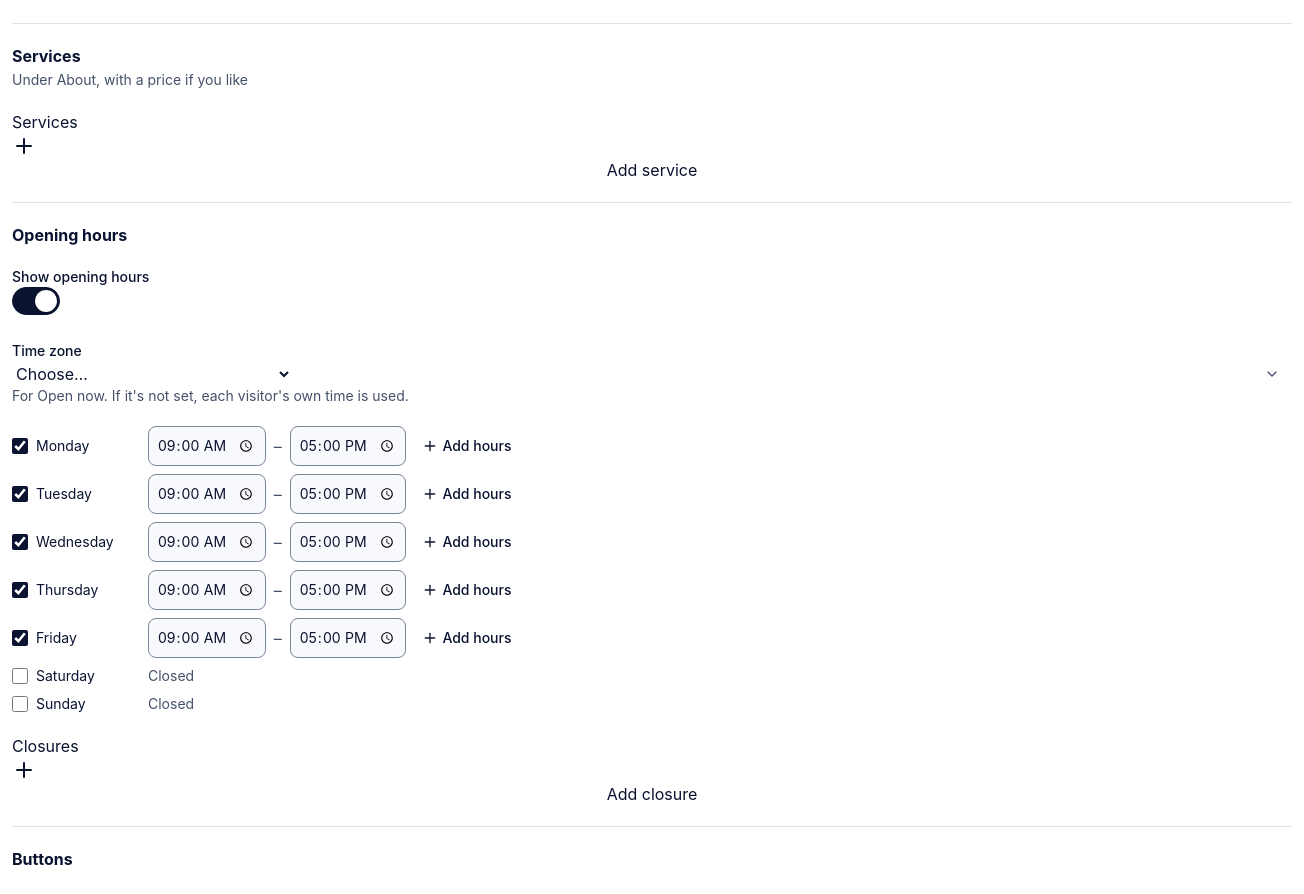
Scenario: Business opening hours › marks a day's first box for Show me, and shows its error once you leave it
The width and height of the screenshot is (1304, 894).
(page scrolled)
Replace the text in the time field named "Monday opens" with "18:00": (207, 446) [148,426,266,466]
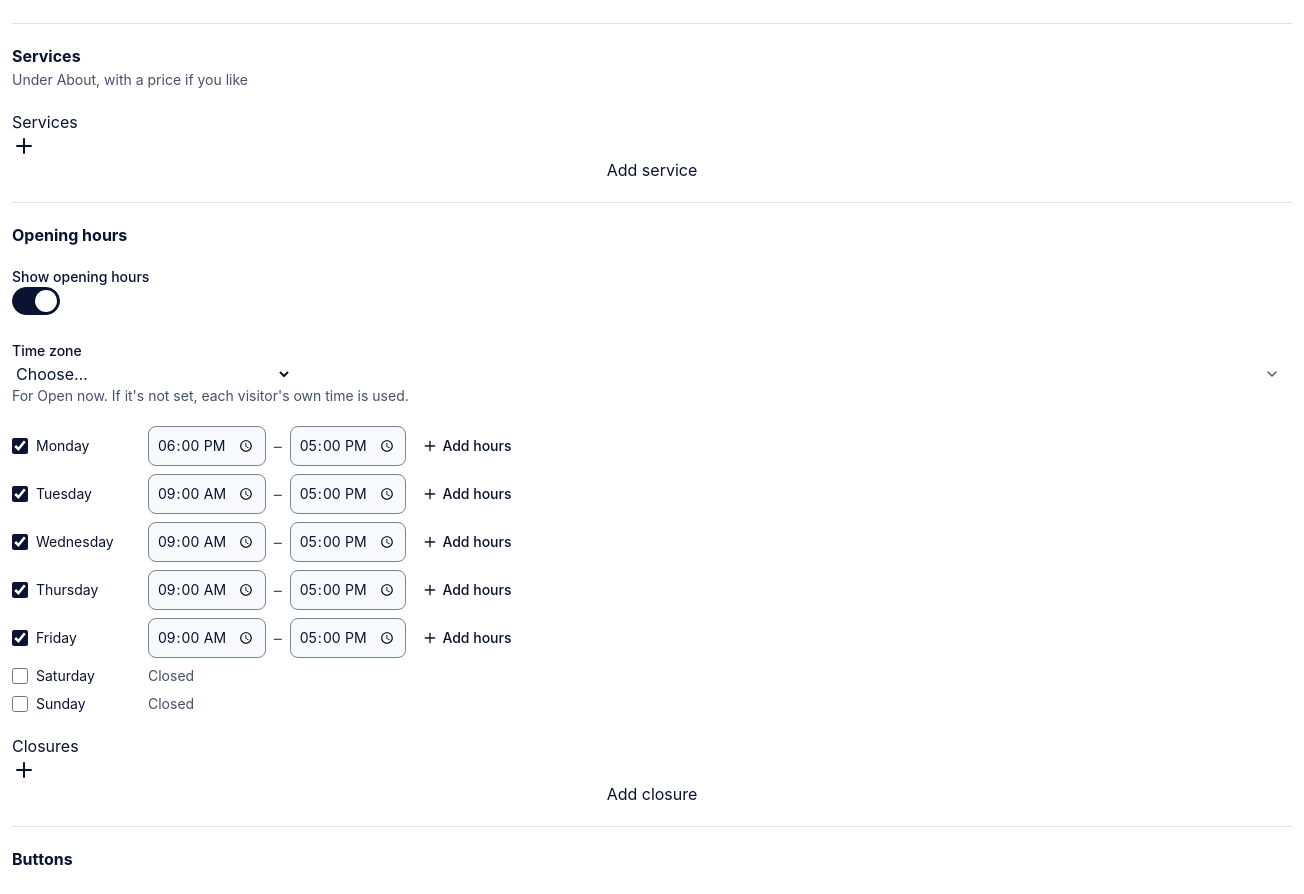
Expected: the text "Closing time must be after opening" is not shown
Leave the time field named "Monday opens", box [148,426,266,466]
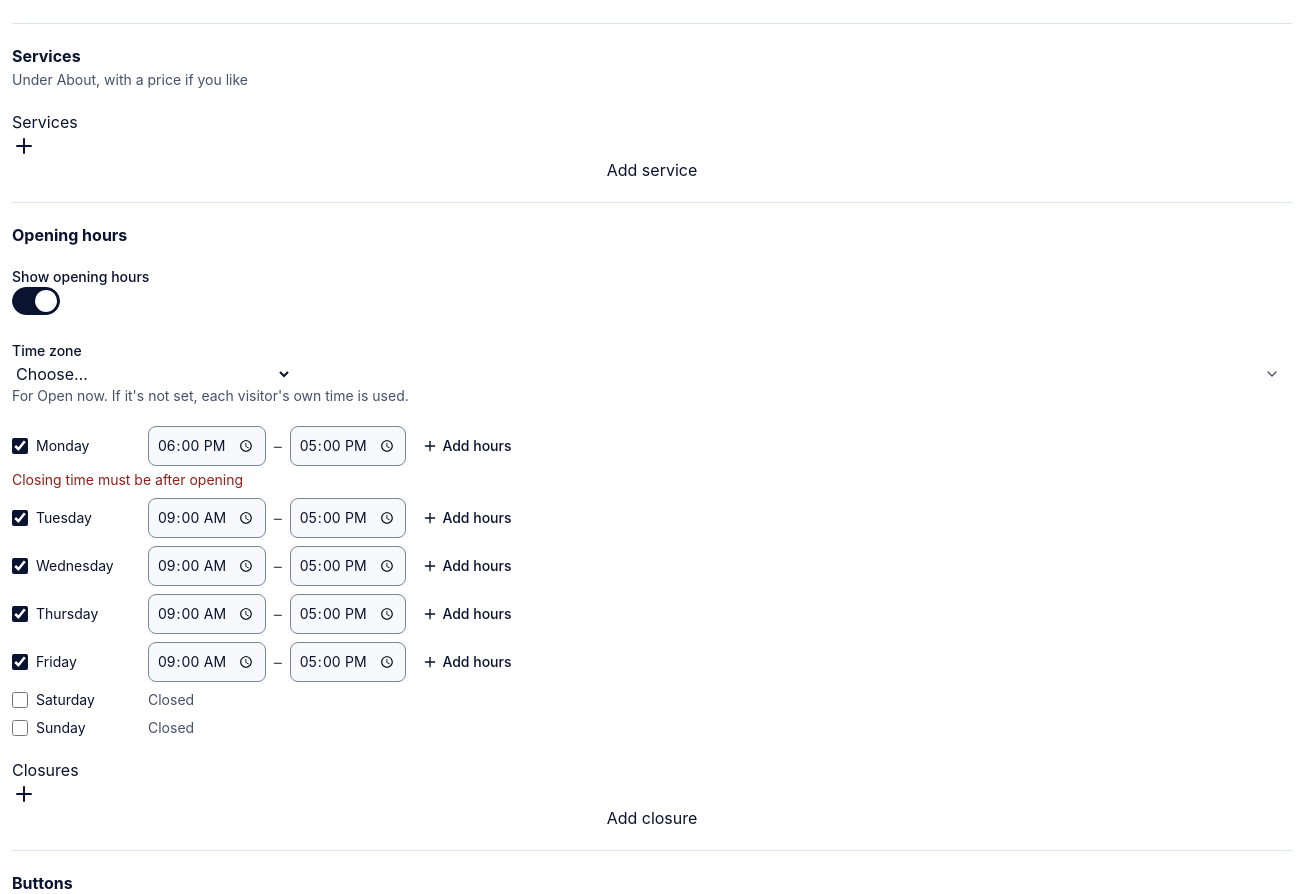
Now the text "Closing time must be after opening" is shown, box [12,471,243,488]
